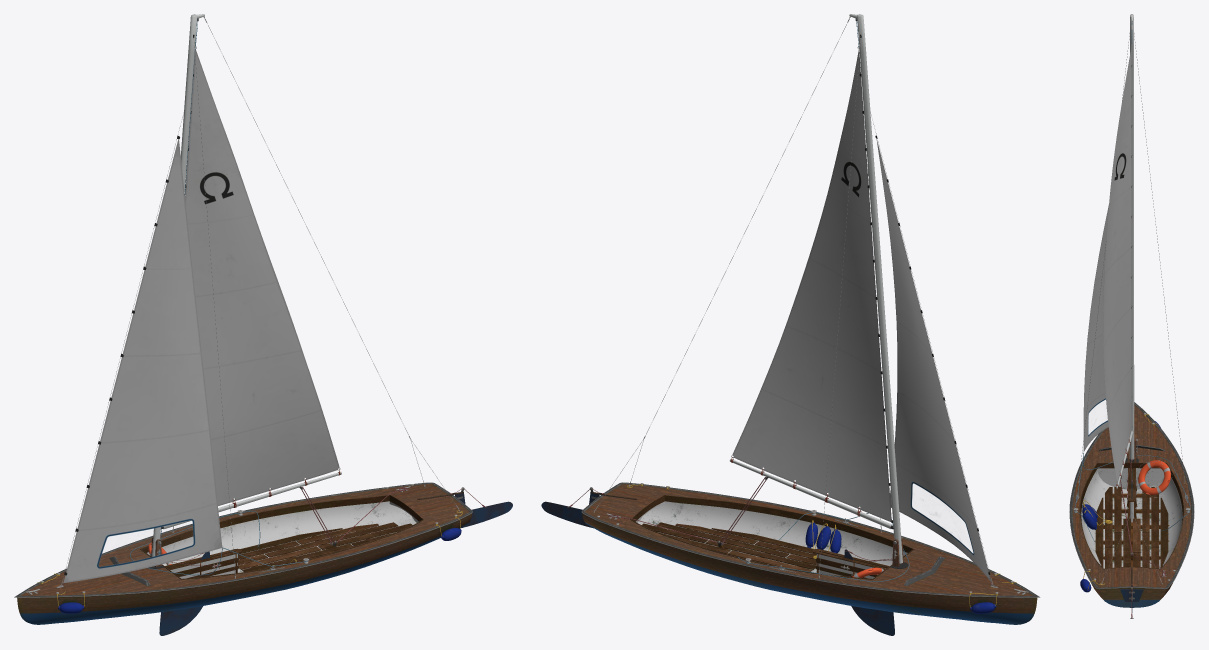
The model's file is boat2-U1nOgUwK.glb.
3 renders of one model, left to right at view 1: azimuth 30°, elevation 25°; view 2: azimuth 150°, elevation 25°; view 3: azimuth 270°, elevation 25°, orthographic. The views are drawn at different scales.
Parts seen in each view (by area): view 1: canvas_canvas_0, top boat_top boat_0, Bottom boat_Bottom boat_0, Wooden inside_wooden inside_0, mast_mat_0, Steer and addons_steer and addons_0, ropes and boyas_ropes and boyas_0, steel ropes_steel ropes_0; view 2: canvas_canvas_0, top boat_top boat_0, Bottom boat_Bottom boat_0, Wooden inside_wooden inside_0, mast_mat_0, ropes and boyas_ropes and boyas_0, Steer and addons_steer and addons_0, steel ropes_steel ropes_0; view 3: canvas_canvas_0, top boat_top boat_0, Wooden inside_wooden inside_0, mast_mat_0, ropes and boyas_ropes and boyas_0, Steer and addons_steer and addons_0, Bottom boat_Bottom boat_0, steel ropes_steel ropes_0.
Boxes of the visible parts, x1,y1,x2,y2 form: canvas_canvas_0: (63,48,340,583); top boat_top boat_0: (14,482,472,597); Bottom boat_Bottom boat_0: (17,513,472,624); Wooden inside_wooden inside_0: (140,495,423,579); mast_mat_0: (149,14,341,568); Steer and addons_steer and addons_0: (148,487,512,635); ropes and boyas_ropes and boyas_0: (37,470,487,613); steel ropes_steel ropes_0: (26,17,460,594); canvas_canvas_0: (731,48,991,582); top boat_top boat_0: (581,482,1040,597); Bottom boat_Bottom boat_0: (582,513,1037,624); Wooden inside_wooden inside_0: (630,495,914,579); mast_mat_0: (729,14,908,568); ropes and boyas_ropes and boyas_0: (567,457,1016,613); Steer and addons_steer and addons_0: (541,487,894,635); steel ropes_steel ropes_0: (593,17,1028,594); canvas_canvas_0: (1083,45,1131,483); top boat_top boat_0: (1069,402,1194,589); Wooden inside_wooden inside_0: (1079,462,1184,569); mast_mat_0: (1116,14,1138,488); ropes and boyas_ropes and boyas_0: (1074,414,1190,618); Steer and addons_steer and addons_0: (1073,460,1190,618); Bottom boat_Bottom boat_0: (1091,583,1172,607); steel ropes_steel ropes_0: (1078,22,1185,584).
Size of the model in its own units: 7.1 by 8.34 by 1.8.
8 materials, 8 textured.
